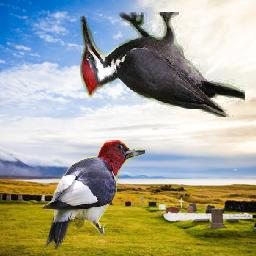Woodpecker: (81, 13, 246, 118), (43, 140, 145, 250)
